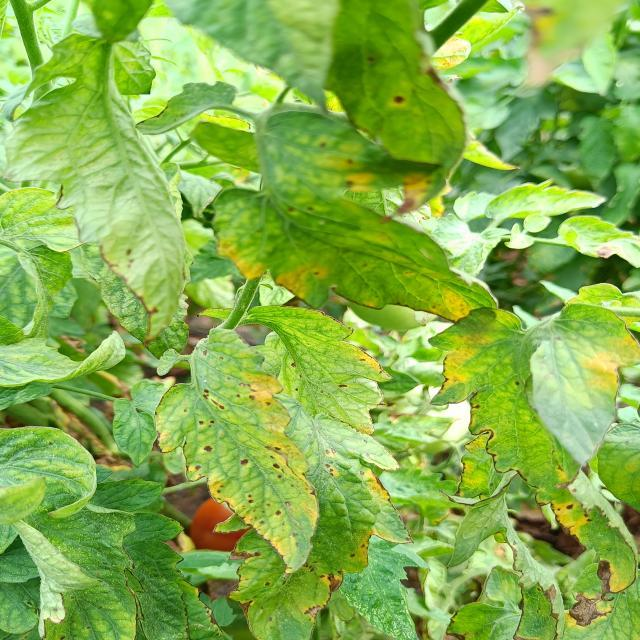Tomato mosaic virus leaf: (151, 328, 323, 576), (504, 480, 640, 639), (224, 534, 377, 640)
